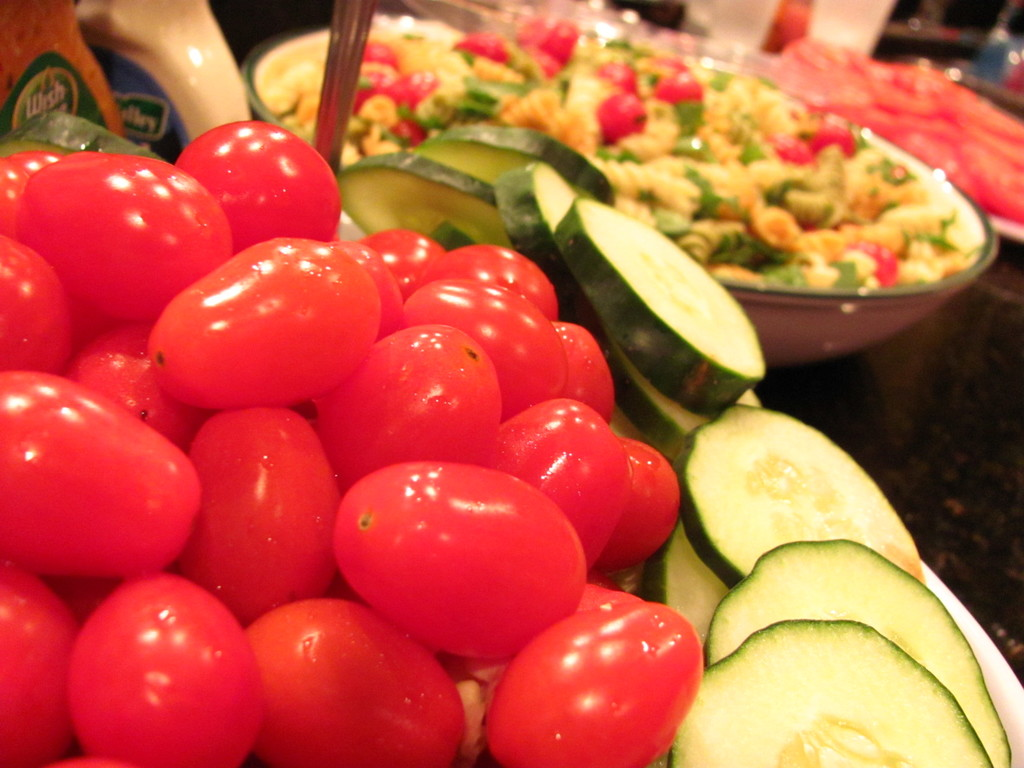Tomato: (335, 457, 583, 669), (0, 373, 207, 583), (142, 235, 382, 403), (487, 591, 711, 767), (62, 567, 256, 767), (245, 593, 461, 767), (15, 150, 236, 320), (175, 401, 337, 632), (316, 318, 502, 483), (492, 396, 634, 570), (175, 115, 343, 255), (401, 291, 570, 423), (57, 322, 216, 446), (0, 570, 85, 767), (599, 435, 684, 576), (0, 234, 72, 379), (434, 240, 554, 320), (363, 225, 450, 309), (0, 149, 76, 243), (556, 320, 618, 425)
